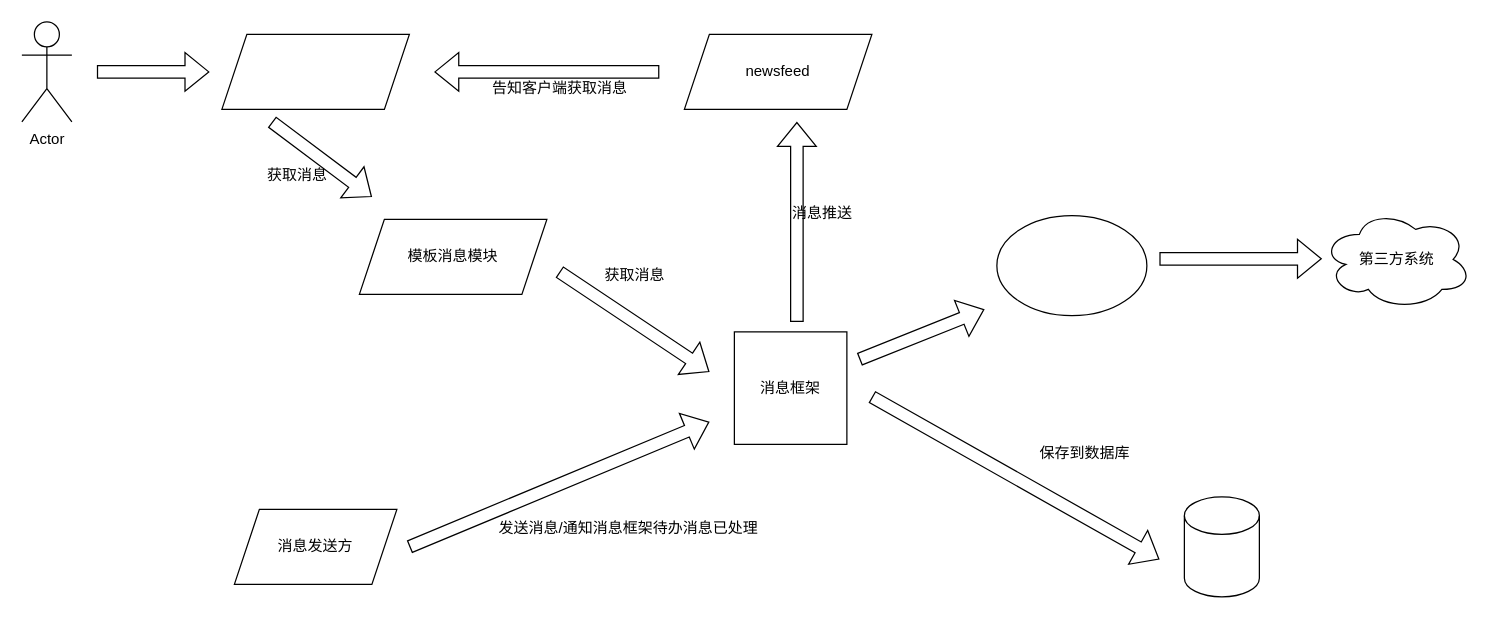
Image size: 1494x619. Some labels were removed from this diagram. Each missing label, with the centre of its shape:
客户端: (x=315, y=71)
数据库: (x=1221, y=546)
第三方消息插件: (x=1071, y=265)
